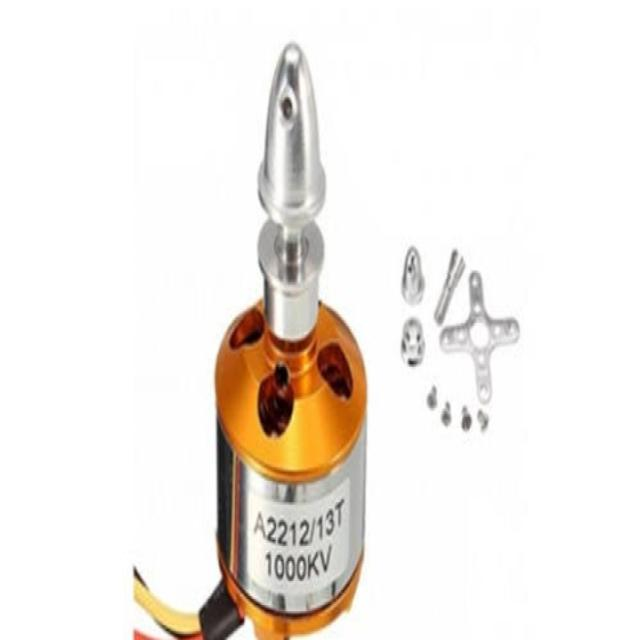motor: (198, 41, 367, 633)
